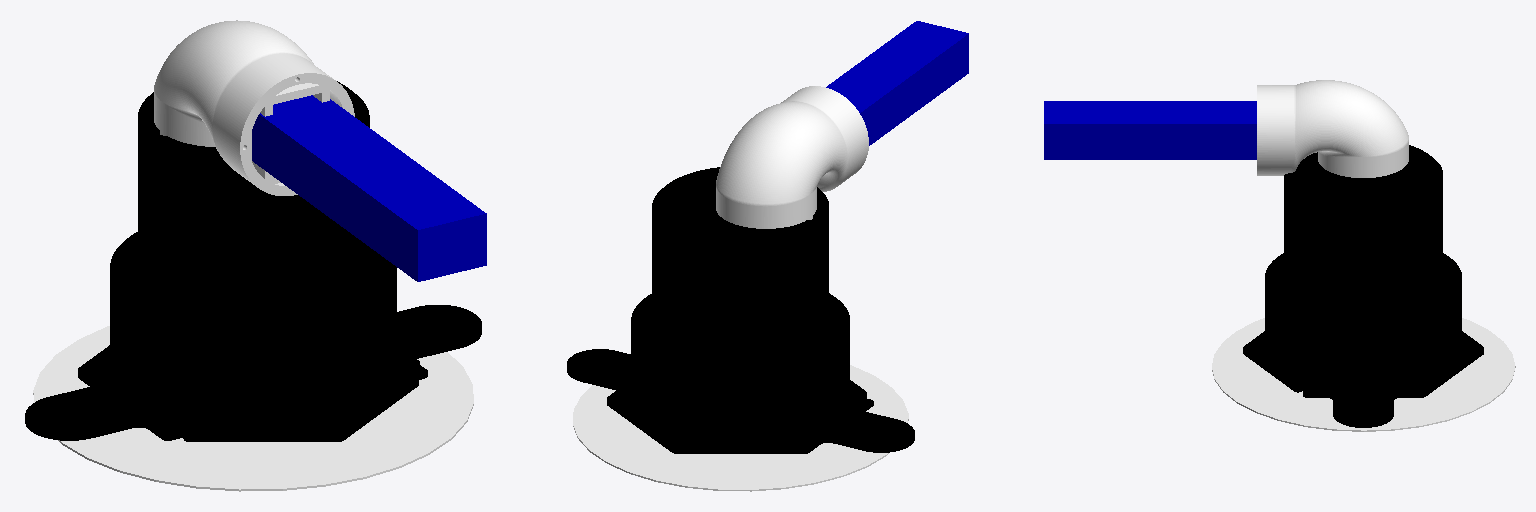
The robot description file, URDF, robot "node12":
<?xml version="1.0"?>
<robot  name="node12" >
 <material  name="blue" >
  <color  rgba="0 0 0.8 1.0" />
 </material>
 <material  name="red" >
  <color  rgba="0.8 0 0 1.0" />
 </material>
 <material  name="white" >
  <color  rgba="1.0 1.0 1.0 0.4" />
 </material>
 <material  name="black" >
  <color  rgba="0.0 0.0 0.0 1.0" />
 </material>
 <link  name="root_mod" >
  <visual >
   <origin  xyz="0 0 0"  rpy="0 0 0" />
   <material  name="white" />
   <geometry >
    <cylinder  length="0.001"  radius="0.1" />
   </geometry>
  </visual>
 </link>
 <link  name="baseMod_1" >
  <inertial >
   <origin  xyz="0.0 1.2212453270876722e-17 0.055"  rpy="1.5707963267948963 0.0 0.0" />
   <mass  value="1.245" />
   <inertia  iyz="1.5e-05"  ixx="0.002797"  ixz="-0.0"  ixy="-0.0"  izz="0.003107"  iyy="0.002417" />
  </inertial>
  <visual >
   <origin  xyz="0.0 1.2212453270876722e-17 0.055"  rpy="1.5707963267948963 0.0 0.0" />
   <material  name="black" />
   <geometry >
    <mesh  filename="./meshes/base-big-360.obj"  scale="0.001 0.001 0.001" />
   </geometry>
  </visual>
 </link>
 <joint  name="joint_1_fixed"  type="fixed" >
  <parent  link="root_mod" />
  <child  link="baseMod_1" />
  <origin  xyz="0.0 0.0 0.01"  rpy="0 0 0" />
  <limit  effort="50"  upper="3.14"  velocity="10"  lower="-3.14" />
 </joint>
 <link  name="connMod_2" >
  <inertial >
   <origin  xyz="0.0 4.440892098500626e-18 0.02"  rpy="1.5707963267948963 0.0 0.0" />
   <mass  value="0.263" />
   <inertia  iyz="-1.5e-05"  ixx="0.000226"  ixz="-0.0"  ixy="0.0"  izz="0.000125"  iyy="0.00023" />
  </inertial>
  <visual >
   <origin  xyz="0.0 4.440892098500626e-18 0.02"  rpy="1.5707963267948963 0.0 0.0" />
   <material  name="white" />
   <geometry >
    <mesh  filename="./meshes/90-connector.obj"  scale="0.001 0.001 0.001" />
   </geometry>
  </visual>
 </link>
 <joint  name="joint_2_revolute"  type="revolute" >
  <parent  link="baseMod_1" />
  <child  link="connMod_2" />
  <origin  xyz="-0.0175 2.964295475749168e-17 0.1335"  rpy="0 0 0" />
  <axis  xyz="0.0 0.0 1.0" />
  <limit  velocity="10"  upper="3.14"  effort="50"  lower="-3.14" />
 </joint>
 <transmission  name="act_joint_2_revolute" >
  <type  xmltext="SimpleTransmission" >
   SimpleTransmission
  </type>
  <actuator  name="trans_joint_2_revolute" >
   <mechanicalreduction  xmltext="1" >
    1
   </mechanicalreduction>
  </actuator>
  <joint  name="joint_2_revolute" />
 </transmission>
 <link  name="linkMod_3" >
  <inertial >
   <origin  xyz="-1.3766765505351941e-17 0.062 0.0"  rpy="0.0 0.0 -1.5707963267948963" />
   <mass  value="0.167" />
   <inertia  iyz="0.0"  ixx="2.7e-05"  ixz="0.0"  ixy="0.0"  izz="0.000331"  iyy="0.000322" />
  </inertial>
  <visual >
   <origin  xyz="-1.3766765505351941e-17 0.062 0.0"  rpy="0.0 0.0 -1.5707963267948963" />
   <material  name="blue" />
   <geometry >
    <mesh  filename="./meshes/link-150.obj"  scale="0.001 0.001 0.001" />
   </geometry>
  </visual>
 </link>
 <joint  name="joint_3_fixed"  type="fixed" >
  <parent  link="connMod_2" />
  <child  link="linkMod_3" />
  <origin  xyz="0.0 -0.05999999999999999 0.020000000000000014"  rpy="0 0 0" />
  <axis  xyz="0.0 -1.0 0.0" />
  <limit  effort="50"  upper="3.14"  velocity="10"  lower="-3.14" />
 </joint>
 <link  name="eef" />
 <joint  name="eef_joint"  type="fixed" >
  <parent  link="linkMod_3" />
  <child  link="eef" />
  <origin  xyz="3.3306690738754695e-17 -0.15 0.0"  rpy="0 0 0" />
  <axis  xyz="0.0 -1.0 0.0" />
  <limit  velocity="10"  upper="3.14"  effort="50"  lower="-3.14" />
 </joint>
</robot>

--- What the picture shows (computed from the rendered views, not written in the file) ---
The picture shows the robot from 3 angles, left to right: view 1: azimuth 30°, elevation 25°; view 2: azimuth 150°, elevation 25°; view 3: azimuth 270°, elevation 25°; orthographic projection.
Model node12 with 5 links and 4 joints (1 revolute, 3 fixed), rooted at root_mod, posed every joint at zero.
Visible links, largest first — view 1: baseMod_1, root_mod, linkMod_3, connMod_2; view 2: baseMod_1, connMod_2, root_mod, linkMod_3; view 3: baseMod_1, linkMod_3, connMod_2, root_mod.
Boxes of the visible links, <box> form: baseMod_1: <box>25,81,481,441</box>; root_mod: <box>33,326,473,491</box>; linkMod_3: <box>252,95,486,281</box>; connMod_2: <box>154,20,354,195</box>; baseMod_1: <box>567,167,914,453</box>; connMod_2: <box>716,86,868,228</box>; root_mod: <box>573,365,908,491</box>; linkMod_3: <box>826,21,968,145</box>; baseMod_1: <box>1243,145,1483,427</box>; linkMod_3: <box>1044,101,1256,159</box>; connMod_2: <box>1257,80,1408,177</box>; root_mod: <box>1212,318,1515,431</box>.
Bounding box of the posed robot: 0.2326 × 0.31 × 0.1975 m (x, y, z).
Meshes: 3 distinct files referenced, 3 mesh visuals loaded (3 OBJ).